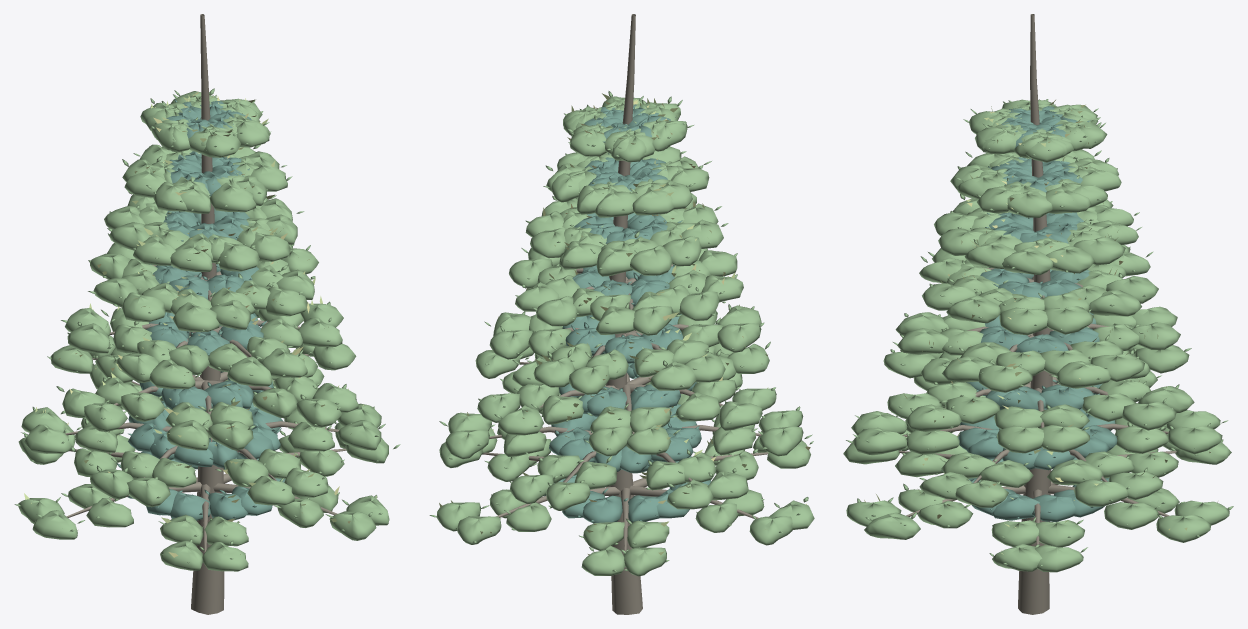
Rendered from cedar_fir.glb.
3 views of the same model, side by side, from view 1: azimuth 30°, elevation 25°; view 2: azimuth 150°, elevation 25°; view 3: azimuth 270°, elevation 25° (orthographic).
Visible parts, largest first — view 1: cedar_fir; view 2: cedar_fir; view 3: cedar_fir.
Boxes of the visible parts, x1,y1,x2,y2 form: cedar_fir: (14,14,400,614); cedar_fir: (429,14,814,614); cedar_fir: (843,14,1233,614).
Bounding box in the file's own units: 5.59 × 8.91 × 5.34.
